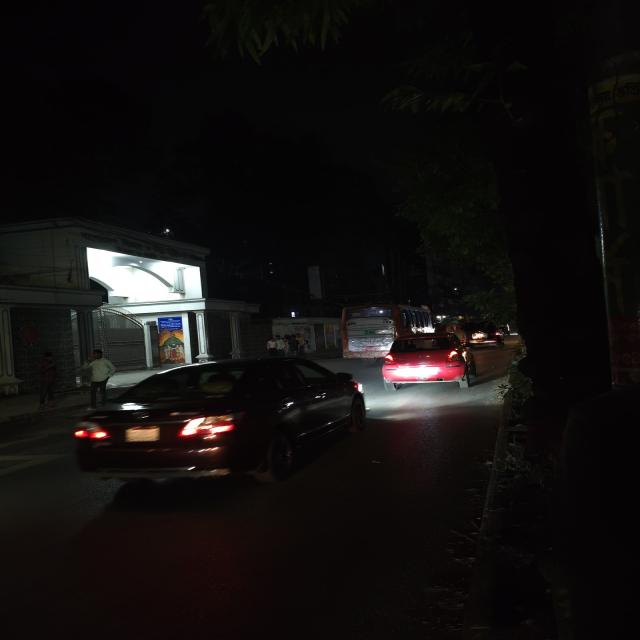bus: (339, 303, 402, 361)
car: (67, 354, 369, 492), (379, 333, 482, 393), (458, 320, 505, 348)
pedestrian: (82, 346, 116, 407), (30, 349, 61, 409)
